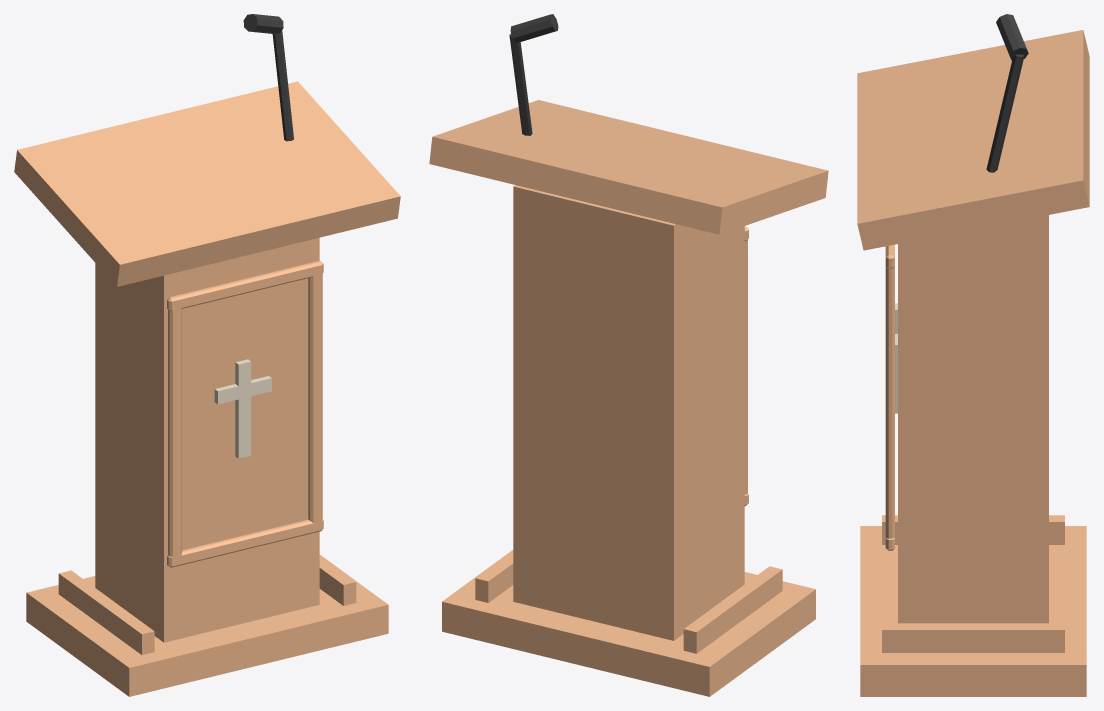
3 views of the same model, side by side, from view 1: azimuth 30°, elevation 25°; view 2: azimuth 150°, elevation 25°; view 3: azimuth 270°, elevation 25° (orthographic). The views are drawn at different scales.
Visible parts, largest first — view 1: Body, Reading top, Foot, Raised panel molding, Raised panel molding.001, Lower plinth, Panel trim.001, Panel trim, Cross upright, Lower plinth.001, Gooseneck microphone, Cross arm (+1 smaller); view 2: Body, Reading top, Foot, Lower plinth, Lower plinth.001, Gooseneck microphone, Raised panel molding, Microphone head; view 3: Body, Reading top, Foot, Lower plinth.001, Raised panel molding.001, Gooseneck microphone, Microphone head, Lower plinth.
Part boxes in pixels (x1,y1,x2,y2): Body: (95,237,319,642); Reading top: (14,81,400,286); Foot: (26,554,388,696); Raised panel molding: (168,304,182,561); Raised panel molding.001: (308,274,322,523); Lower plinth: (58,570,154,654); Panel trim.001: (167,260,323,310); Panel trim: (167,519,323,567); Cross upright: (235,359,251,458); Lower plinth.001: (319,555,356,605); Gooseneck microphone: (272,30,293,141); Cross arm: (214,376,271,404); Body: (513,185,744,640); Reading top: (429,100,828,234); Foot: (442,550,815,696); Lower plinth: (683,566,782,653); Lower plinth.001: (475,551,513,602); Gooseneck microphone: (509,33,532,135); Raised panel molding: (744,240,747,494); Microphone head: (510,14,558,42); Body: (898,215,1048,623); Reading top: (857,30,1089,250); Foot: (860,526,1086,696); Lower plinth.001: (882,623,1064,652); Raised panel molding.001: (885,267,894,538); Gooseneck microphone: (986,54,1024,172); Microphone head: (996,14,1028,60); Lower plinth: (882,515,1064,544).
Size of the model in its own units: 0.78 by 1.56 by 0.5087.
1 material, 1 textured.
